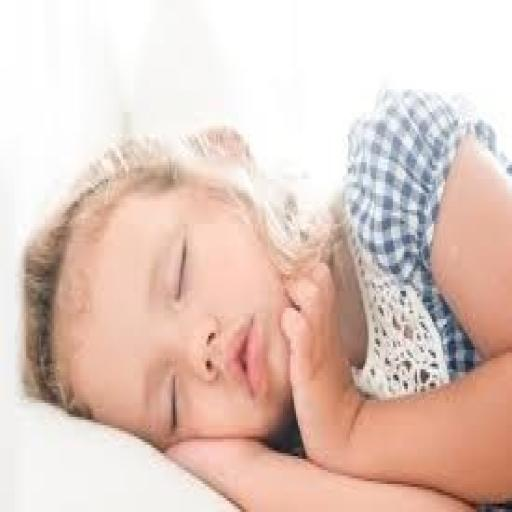sleeping: (17, 84, 510, 509)
